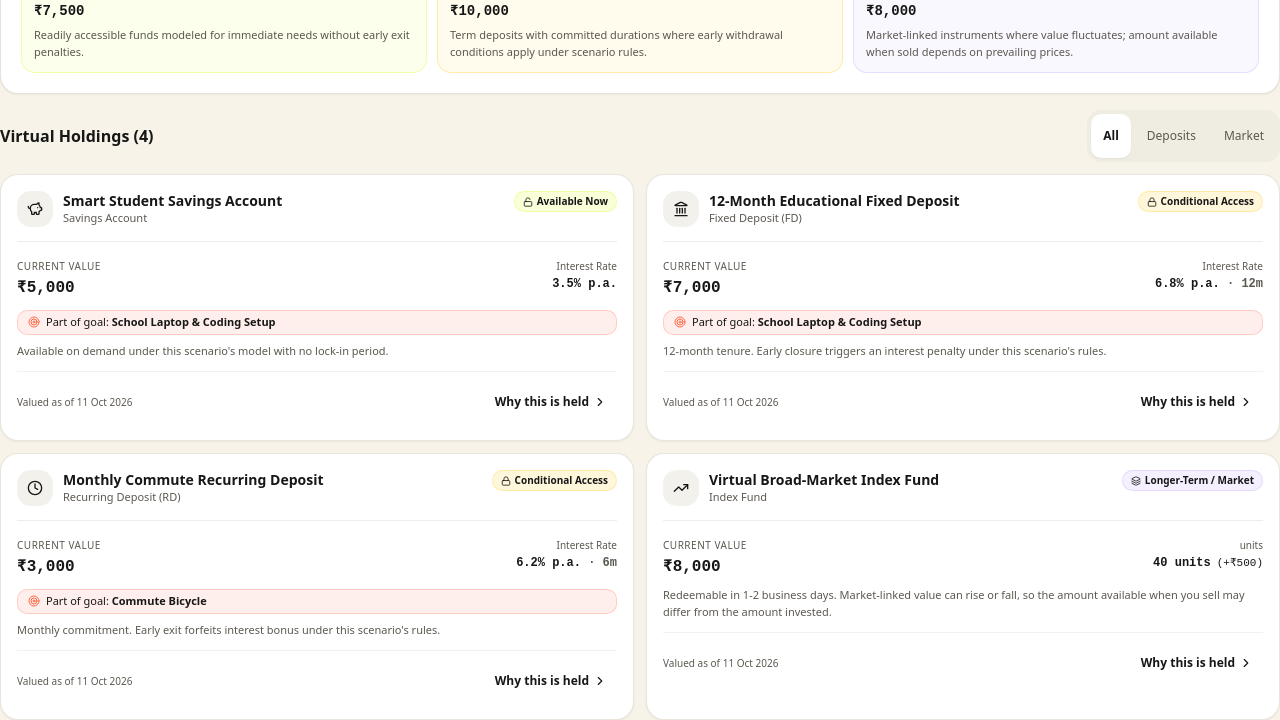
Test case: ui › PaperPortfolio UI › closes holding detail modal on Escape key press
(page scrolled)
Click the button with test id "holding-detail-btn-holding-fd-1".
click(1197, 402)  # box [1131,380,1263,424]
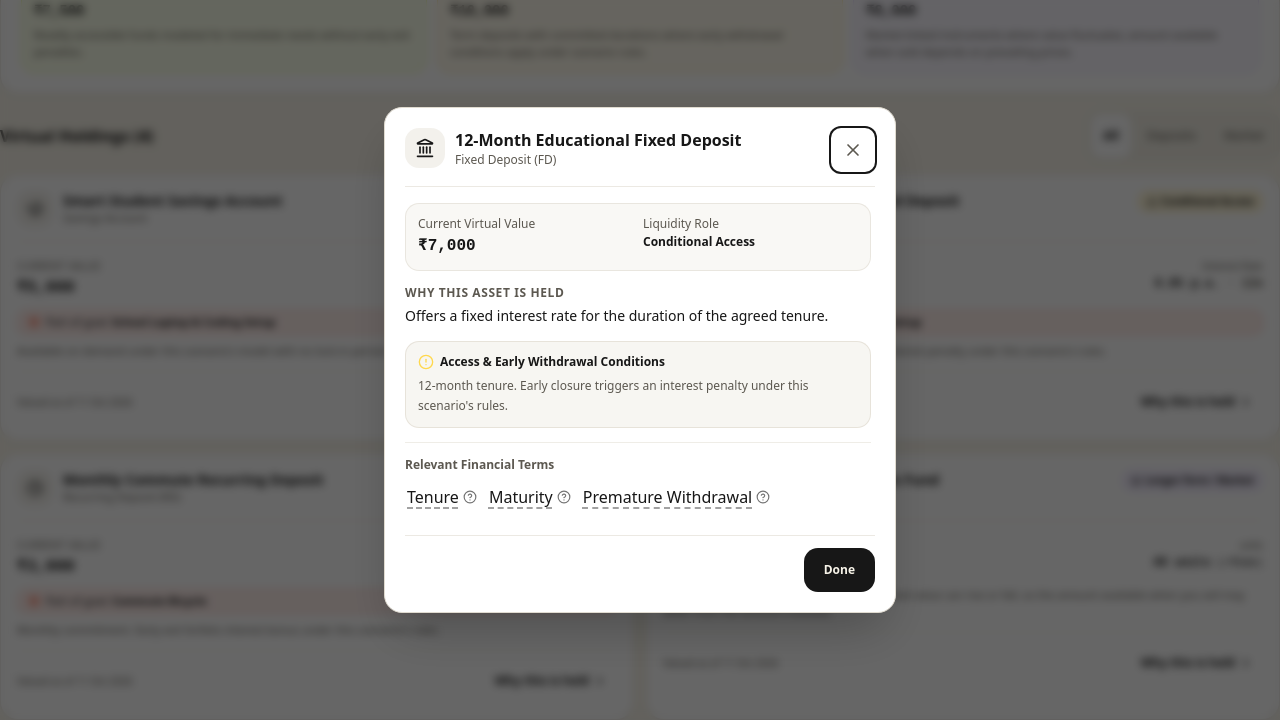
Expected: the dialog with test id "holding-detail-modal" is shown
# Press Escape
Press Escape
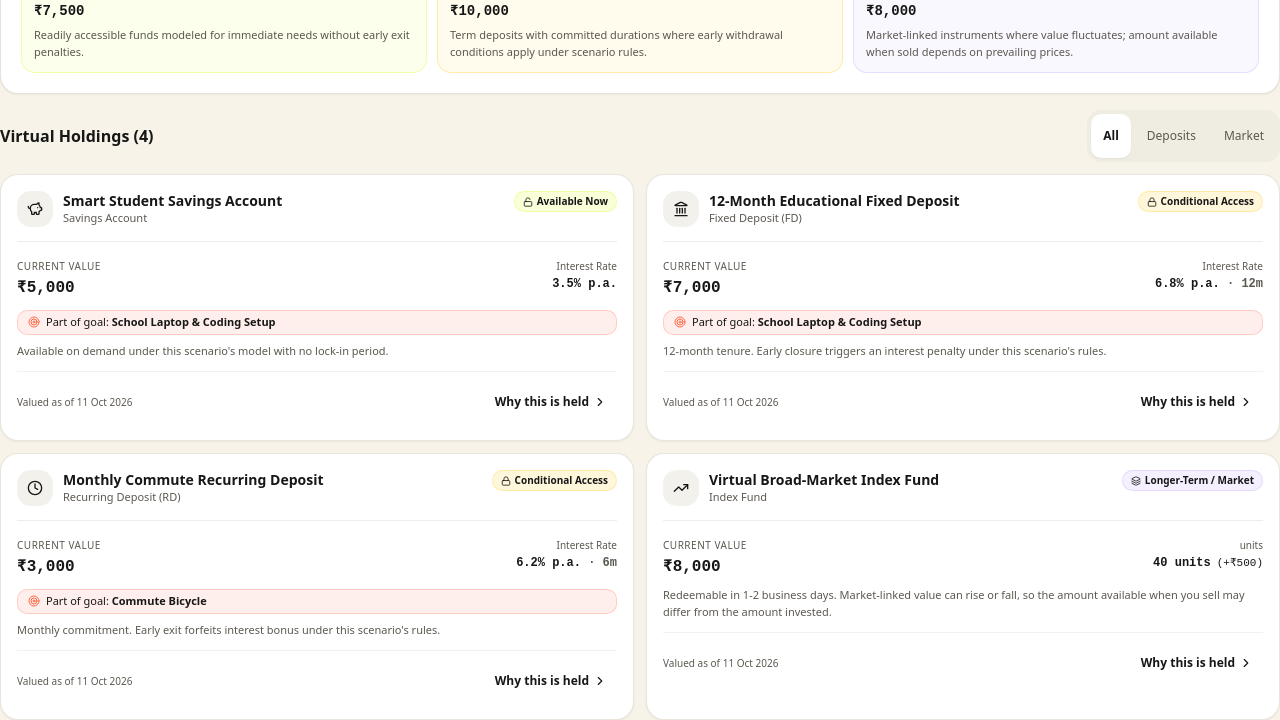
Expected: the dialog with test id "holding-detail-modal" is gone
